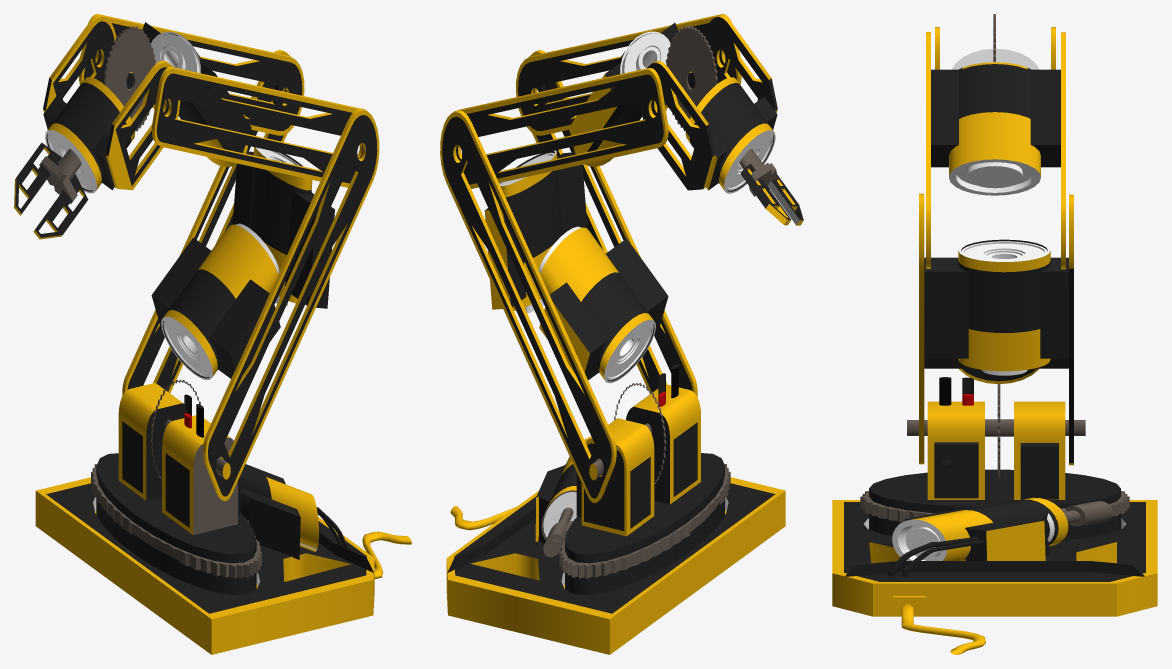
3 views of the same model, side by side, from view 1: azimuth 30°, elevation 25°; view 2: azimuth 150°, elevation 25°; view 3: azimuth 270°, elevation 25° (orthographic). The views are drawn at different scales.
Visible parts, largest first — view 1: Bovenarm_001, Voet_001, Draaivoet_001, Onderarm_001, Component#1_001, Layer0_001, Component#5_001, Component#2_001, Component#3_001, Component#4_001; view 2: Bovenarm_001, Voet_001, Draaivoet_001, Onderarm_001, Component#1_001, Layer0_001, Component#5_001, Component#2_001, Component#3_001, Component#4_001; view 3: Voet_001, Bovenarm_001, Draaivoet_001, Onderarm_001, Component#1_001, Layer0_001.
Part boxes in pixels (x1=…): Bovenarm_001: x1=122, y1=50, x2=379, y2=500; Voet_001: x1=36, y1=464, x2=411, y2=654; Draaivoet_001: x1=91, y1=380, x2=261, y2=578; Onderarm_001: x1=79, y1=14, x2=363, y2=187; Component#1_001: x1=43, y1=14, x2=180, y2=193; Layer0_001: x1=35, y1=491, x2=259, y2=654; Component#5_001: x1=104, y1=26, x2=155, y2=131; Component#2_001: x1=14, y1=142, x2=61, y2=215; Component#3_001: x1=33, y1=174, x2=88, y2=239; Component#4_001: x1=39, y1=149, x2=81, y2=203; Bovenarm_001: x1=440, y1=50, x2=697, y2=502; Voet_001: x1=446, y1=436, x2=785, y2=654; Draaivoet_001: x1=543, y1=364, x2=730, y2=578; Onderarm_001: x1=456, y1=14, x2=741, y2=188; Component#1_001: x1=640, y1=14, x2=777, y2=193; Layer0_001: x1=561, y1=491, x2=785, y2=654; Component#5_001: x1=665, y1=25, x2=717, y2=131; Component#2_001: x1=740, y1=164, x2=791, y2=225; Component#3_001: x1=768, y1=175, x2=803, y2=225; Component#4_001: x1=739, y1=149, x2=778, y2=196; Voet_001: x1=832, y1=497, x2=1157, y2=654; Bovenarm_001: x1=919, y1=193, x2=1073, y2=465; Draaivoet_001: x1=860, y1=377, x2=1129, y2=526; Onderarm_001: x1=926, y1=32, x2=1065, y2=269; Component#1_001: x1=935, y1=27, x2=1055, y2=69; Layer0_001: x1=864, y1=514, x2=1125, y2=540.
Size of the model in its own units: 25.34 by 37.69 by 21.24.
